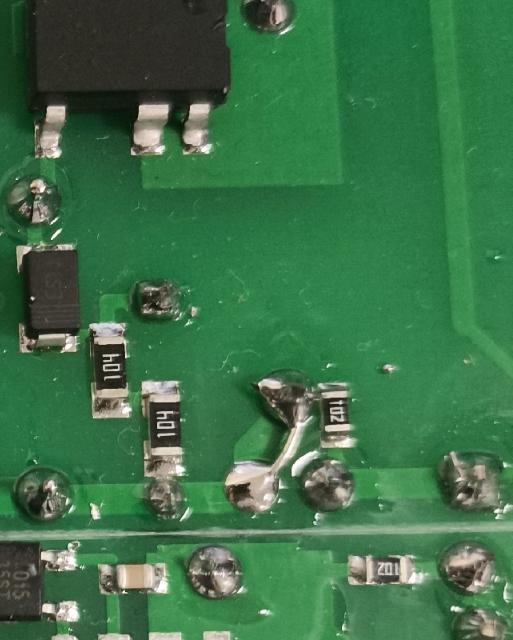chip-capacitor: (98, 563, 169, 593)
chip-resistor: (140, 375, 187, 478), (86, 319, 133, 420), (317, 378, 355, 451), (346, 550, 418, 588)
diode: (11, 238, 84, 354)
ic: (22, 0, 233, 159)
